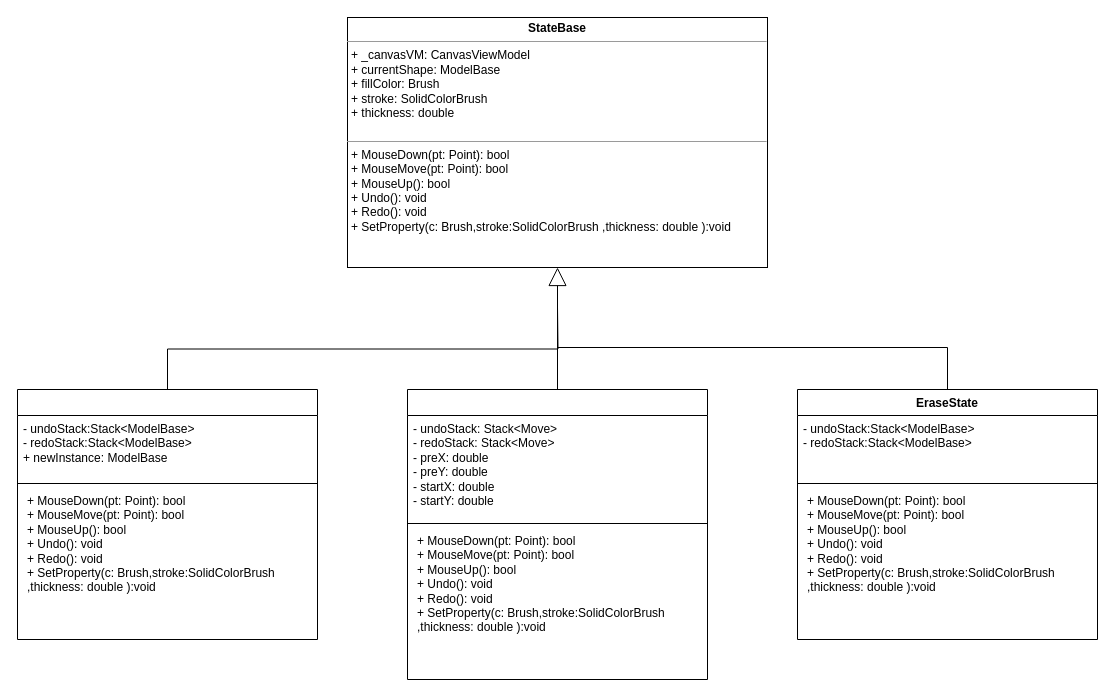
The diagram is 1115 pixels wide and 700 high, and some of its shapes have lost their labels. The box of each missing label's shape, as (x1, y1, x2, y2) in pixels:
DrawingState: (16, 388, 318, 640)
SelectedState: (406, 388, 708, 680)
